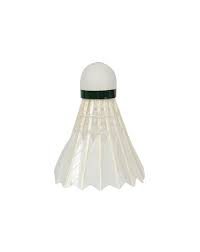shuttle: (48, 60, 149, 197)
